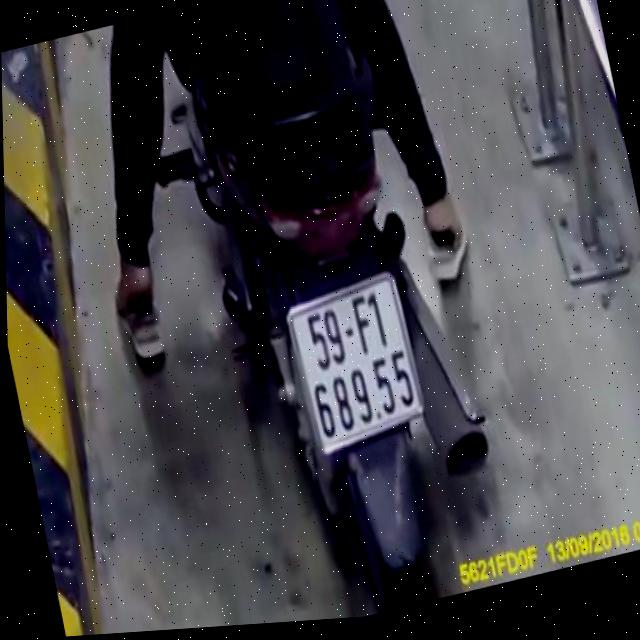motorcycle: (149, 0, 522, 630)
plate: (279, 265, 432, 460)
